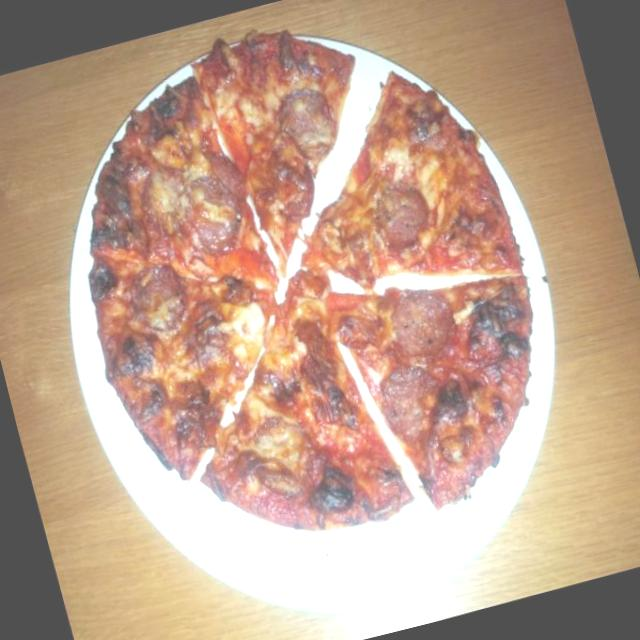Pizza: (29, 0, 586, 588)
